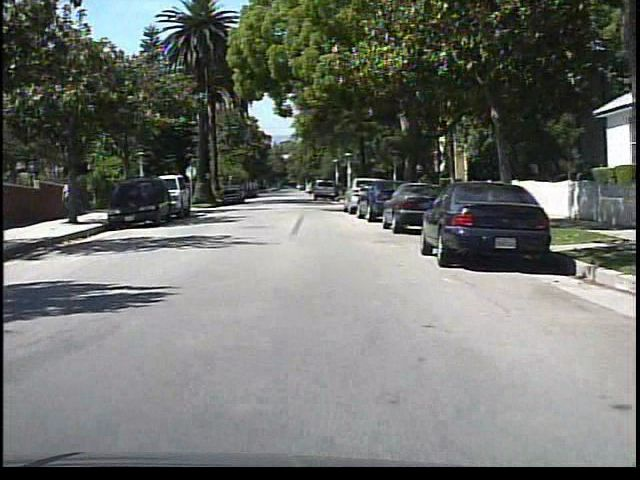person: (61, 178, 79, 220)
